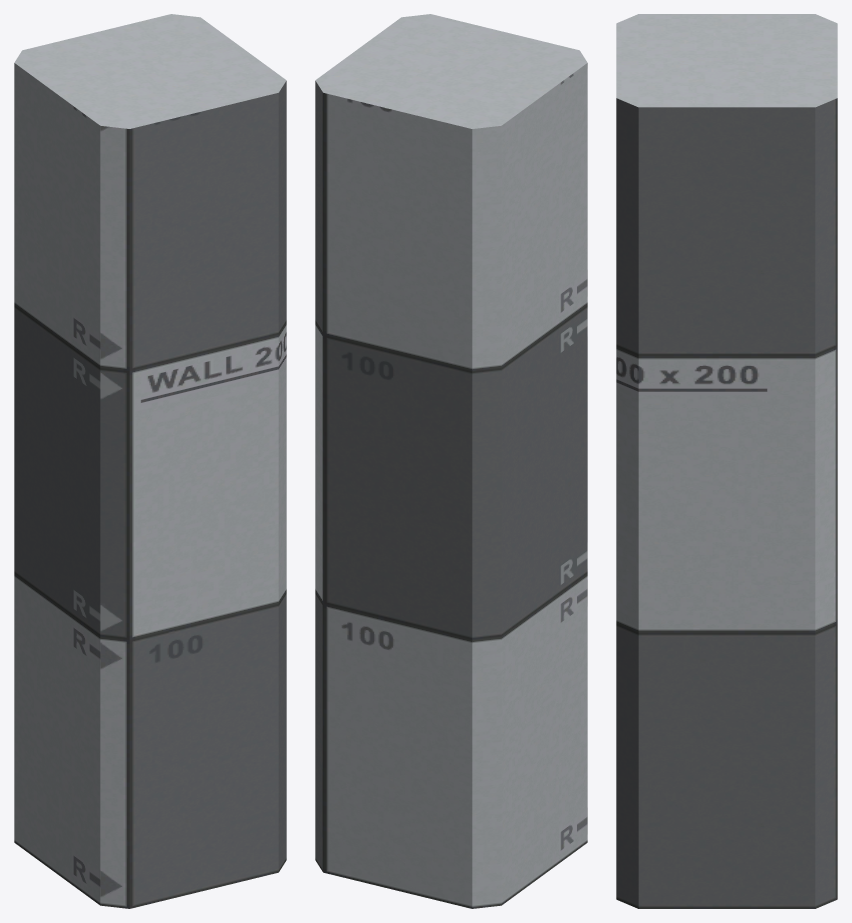
The model's file is SM_dev_pillar_100_x_400.fbx.
3 renders of one model, left to right at view 1: azimuth 30°, elevation 25°; view 2: azimuth 150°, elevation 25°; view 3: azimuth 270°, elevation 25°, orthographic. The views are drawn at different scales.
Visible parts, largest first — view 1: pCube12; view 2: pCube12; view 3: pCube12.
Part boxes in pixels (bbox=[...]): pCube12: bbox=[14, 14, 286, 908]; pCube12: bbox=[315, 14, 587, 908]; pCube12: bbox=[616, 14, 837, 908].
Size of the model in its own units: 1 by 4 by 1.
